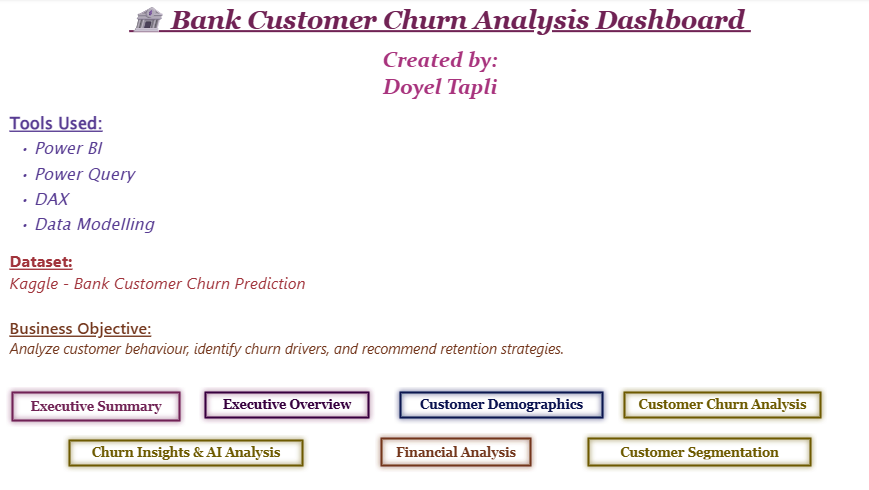

The dashboard page shown, as its layout file describes it:
{"tool":"powerbi","page":{"name":"Project Overview","canvas":[1280,720],"ordinal":0},"visuals":[{"type":"textbox","box":[10.2,0,1270.2,544.4],"z":0},{"type":"actionButton","box":[292.7,567.8,257.6,55.6],"z":1000},{"type":"actionButton","title":"Customer Demographics","box":[578,567.8,314.6,55.6],"z":2000},{"type":"actionButton","box":[905.9,567.8,305.9,55.6],"z":3000},{"type":"actionButton","box":[93.7,638,360,55.6],"z":4000},{"type":"actionButton","box":[550.2,635.1,237.1,58.5],"z":5000},{"type":"actionButton","box":[853.2,635.1,343.9,58.5],"z":6000},{"type":"actionButton","box":[10.2,567.8,263.4,60],"z":7000}]}

Visuals, with their boxes in screenshot pixels (x1, y1, x2, y2), scaled from the page's 1280x720 canvas onto the 869x490 screenshot:
textbox: 7:0:868:370
actionButton: 199:386:374:424
"Customer Demographics" actionButton: 392:386:606:424
actionButton: 615:386:823:424
actionButton: 64:434:308:472
actionButton: 374:432:535:472
actionButton: 579:432:813:472
actionButton: 7:386:186:427
